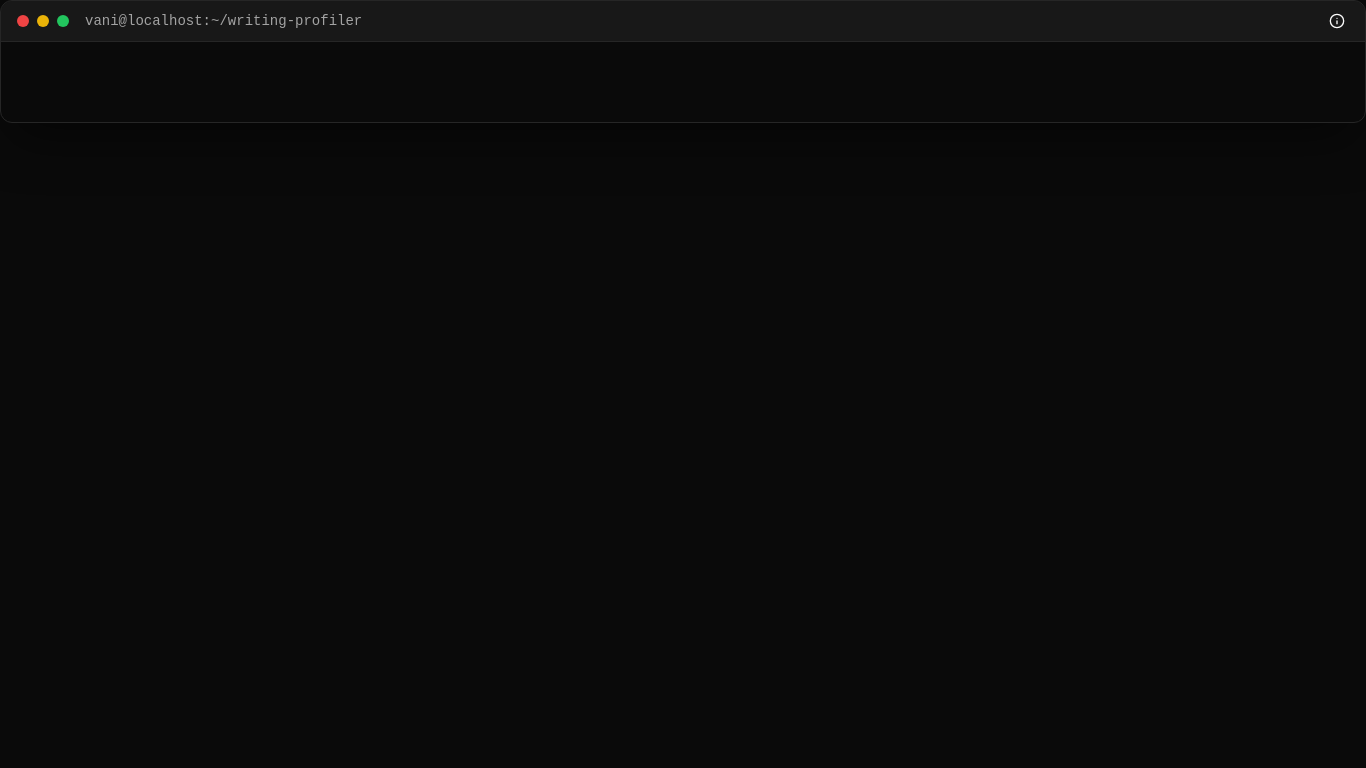
Test: TerminalWindow › displays comprehensive site information in the sheet
The width and height of the screenshot is (1366, 768).
Click the button with test id "info-button" at point(1337, 21), box [1325,9,1349,33]
(page scrolled)
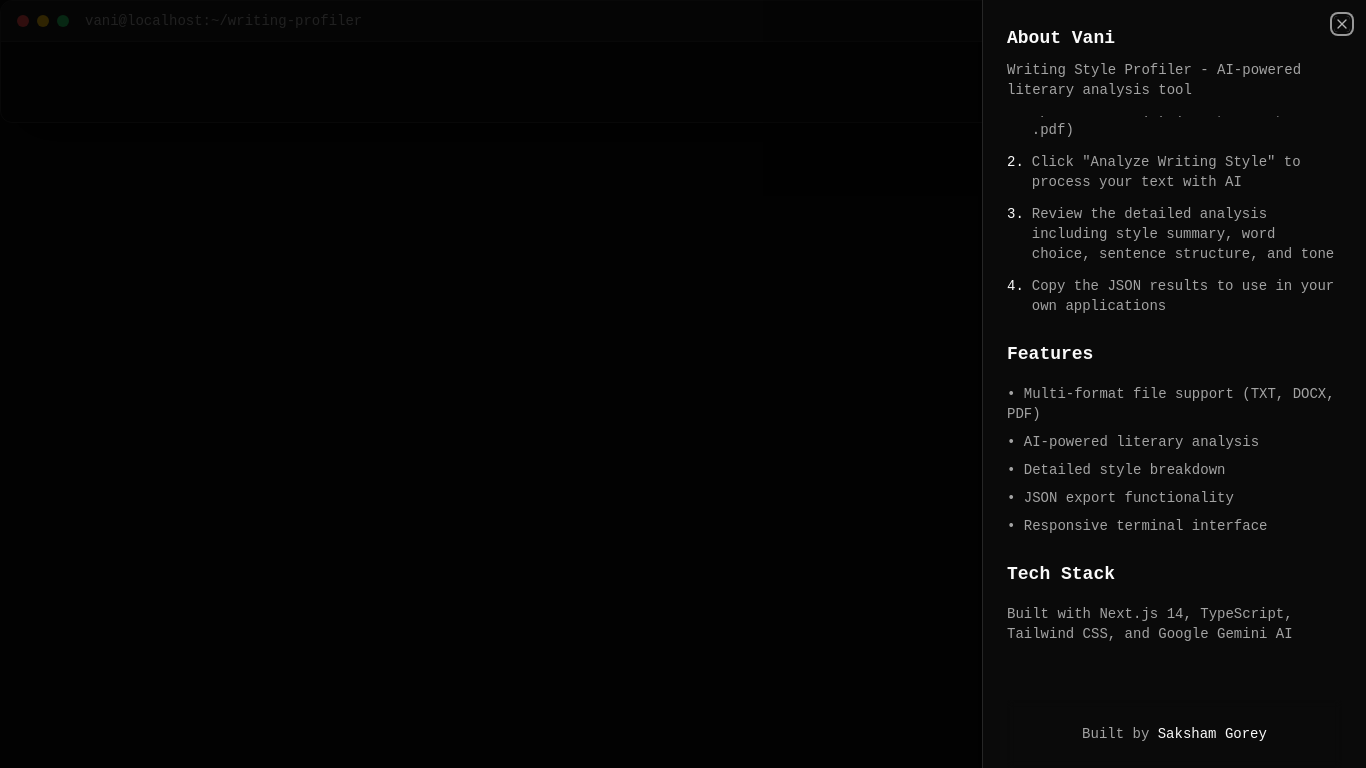
expect the heading "Features" is shown: met, box [1007,344,1093,364]
expect the heading "Tech Stack" is shown: met, box [1007,564,1115,584]
expect the text "upload a file(s) (.txt, .docx, or .pdf)" is shown: met, box [1032,116,1342,140]
